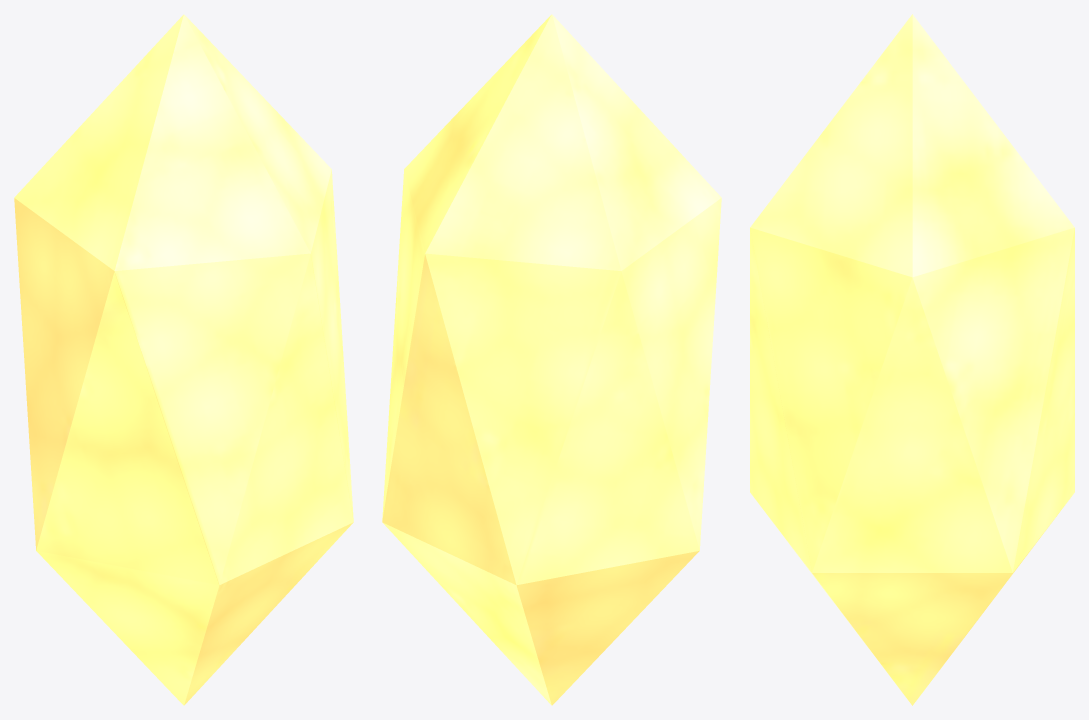
Rendered from gem.glb.
3 renders of one model, left to right at view 1: azimuth 30°, elevation 25°; view 2: azimuth 150°, elevation 25°; view 3: azimuth 270°, elevation 25°, orthographic.
Visible parts, largest first — view 1: gem; view 2: gem; view 3: gem.
Part boxes in pixels (x1,y1,x2,y2): gem: (14, 14, 353, 705); gem: (382, 14, 721, 705); gem: (750, 14, 1074, 705).
Bounding box in the file's own units: 0.6261 × 1.4 × 0.5954.
1 material, 1 textured.
